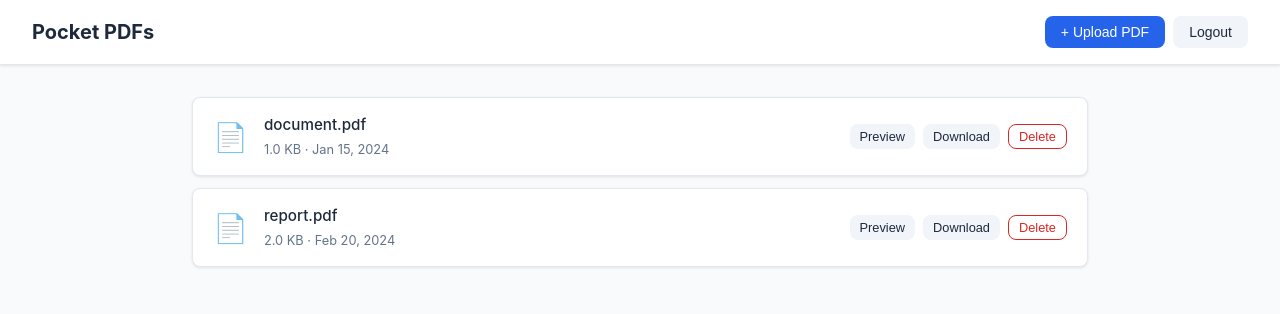
Test: Dashboard › delete › shows an error message when deletion fails
Check: the text "document.pdf" is shown, box left=264, top=115, right=366, bottom=134
Click the button "Delete" in the row of "Jan 15, 2024" at (1038, 137), box left=1008, top=124, right=1067, bottom=149
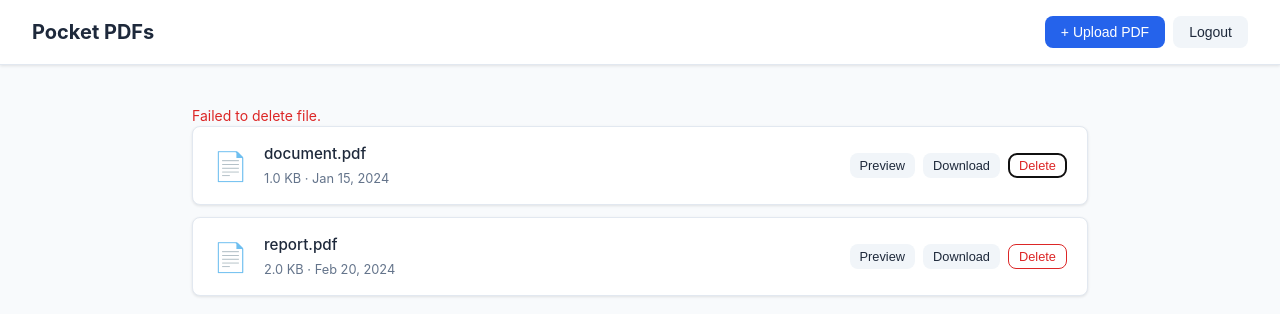
Check: the text "Failed to delete file." is shown, box left=192, top=107, right=321, bottom=124
